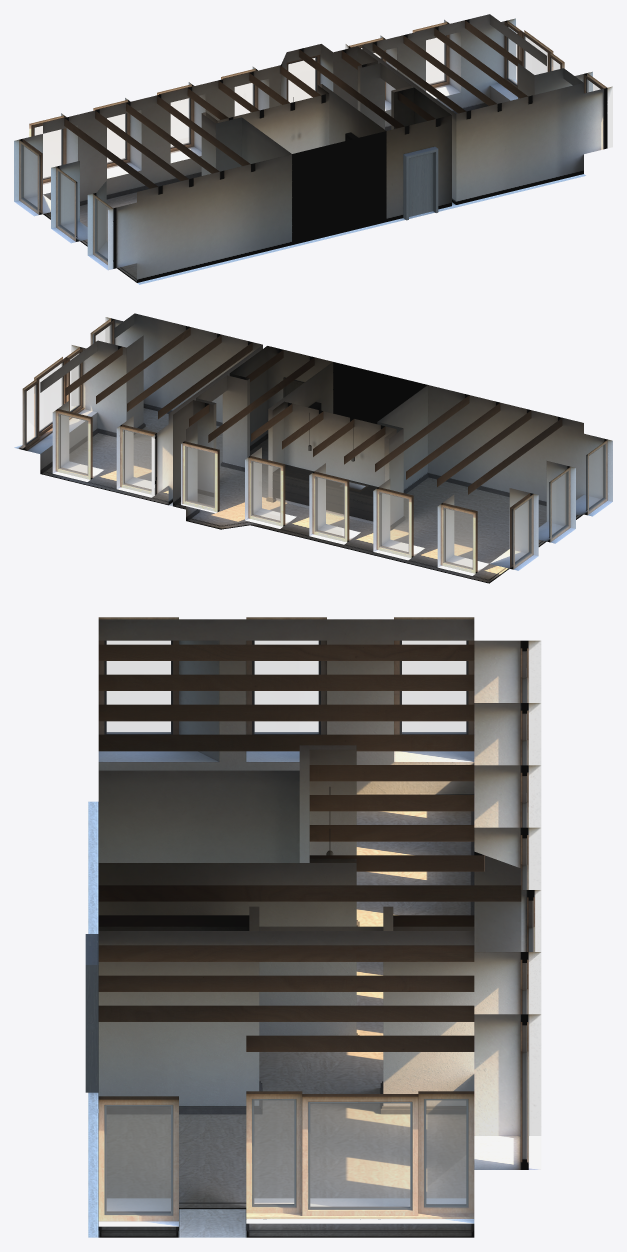
Rendered from apartment-demo.glb.
3 views of the same model, one above another, from view 1: azimuth 30°, elevation 25°; view 2: azimuth 150°, elevation 25°; view 3: azimuth 270°, elevation 25° (orthographic). The views are drawn at different scales.
Visible parts, largest first — view 1: Wall3, Wall1, Wall2, Plywood, Window Glass, Window, Door, Floor, Baseboard; view 2: Wall3, Wall2, Wall1, Floor, Window Glass, Window, Plywood, Counter, Baseboard; view 3: Wall2, Plywood, Wall1, Floor, Window Glass, Window, Baseboard, Door.
Part boxes in pixels (x1,y1,x2,y2): Wall3: (108, 83, 612, 282); Wall1: (14, 14, 592, 269); Wall2: (201, 44, 456, 204); Plywood: (64, 20, 527, 188); Window Glass: (23, 27, 599, 259); Window: (19, 20, 606, 264); Door: (345, 132, 438, 220); Floor: (43, 174, 585, 284); Baseboard: (45, 103, 488, 279); Wall3: (105, 313, 612, 501); Wall2: (151, 345, 427, 525); Wall1: (14, 313, 612, 575); Floor: (41, 408, 582, 583); Window Glass: (27, 325, 603, 567); Window: (18, 318, 607, 573); Plywood: (65, 327, 562, 494); Counter: (272, 464, 377, 521); Baseboard: (40, 403, 578, 580); Wall2: (98, 745, 541, 1105); Plywood: (98, 644, 521, 1051); Wall1: (98, 619, 541, 1226); Floor: (88, 801, 474, 1237); Window Glass: (107, 641, 465, 1212); Window: (98, 617, 534, 1221); Baseboard: (98, 794, 474, 1232); Door: (85, 934, 98, 1092).
Size of the model in its own units: 17.4 by 3 by 6.8.
15 materials, 15 textured.
